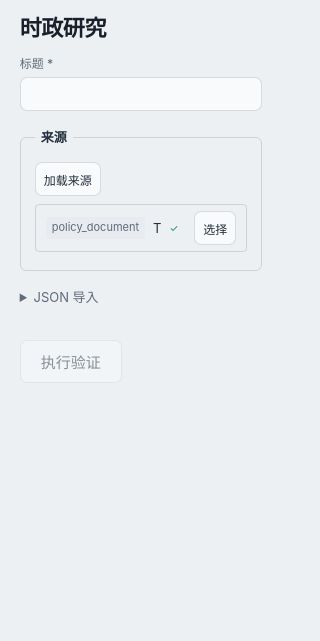
it: lifecycle › JSON import rejects non-object (array)
Click the heading "JSON 导入". click: (66, 297)
box: [34, 289, 99, 305]
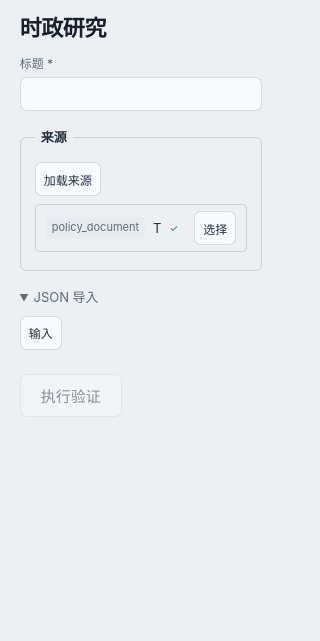
Click the button "输入". click: (41, 333)
box: [20, 316, 62, 350]
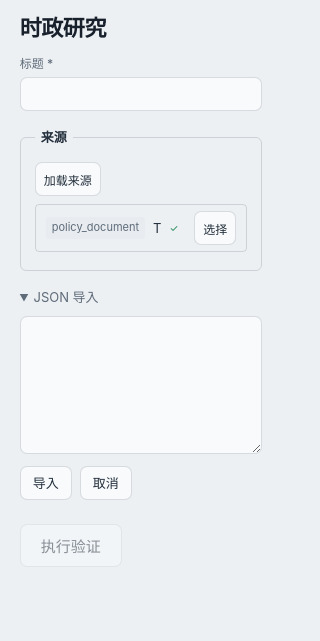
Type "[\"src-1\"]" into the text box with id "ca-json". click: (141, 385)
box: [20, 316, 262, 454]
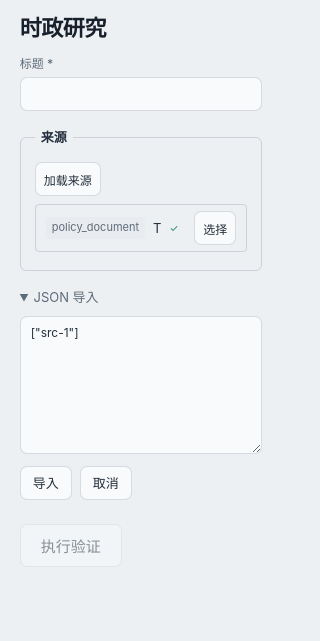
Click the button "导入". click: (46, 483)
box: [20, 466, 72, 500]
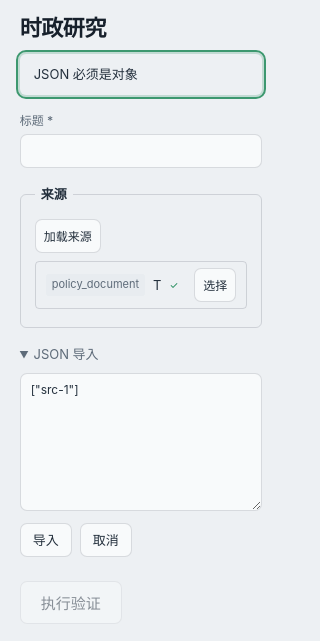
Check: the text "JSON 必须是对象" is shown, box [20, 54, 262, 95]
